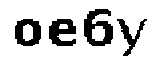6: (81, 7, 115, 49)
e: (47, 18, 78, 49)
o: (12, 17, 42, 48)
y: (116, 15, 148, 60)
